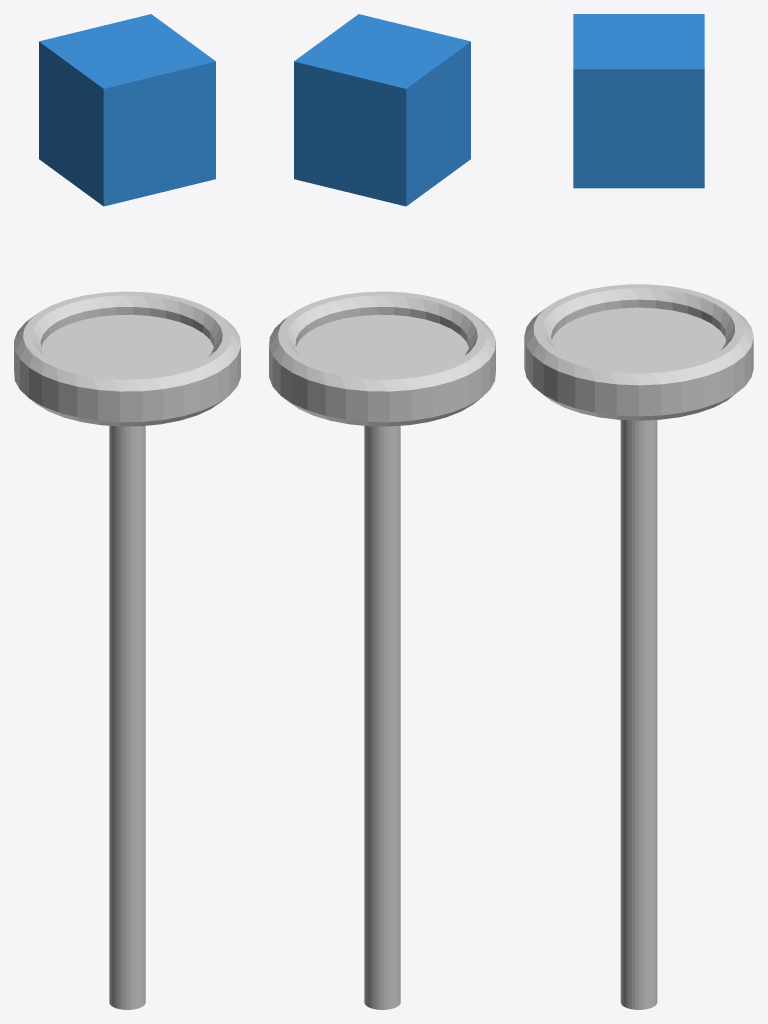
The model's file is cube_sign.fbx.
3 views of the same model, side by side, from view 1: azimuth 30°, elevation 25°; view 2: azimuth 150°, elevation 25°; view 3: azimuth 270°, elevation 25° (orthographic).
Parts seen in each view (by area): view 1: Base, Symbol; view 2: Base, Symbol; view 3: Base, Symbol.
Part boxes in pixels (x1,y1,x2,y2): Base: [14, 291, 240, 1009]; Symbol: [39, 14, 215, 206]; Base: [269, 291, 495, 1009]; Symbol: [294, 14, 470, 206]; Base: [524, 284, 753, 1009]; Symbol: [573, 14, 704, 188].
Bounding box in the file's own units: 16.51 × 76.18 × 16.51.
